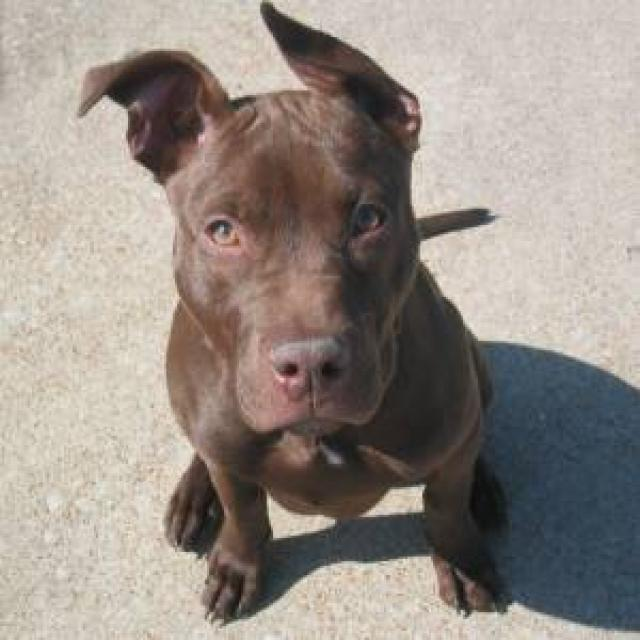dog-american_pit_bull_terrier: (68, 2, 512, 619)
